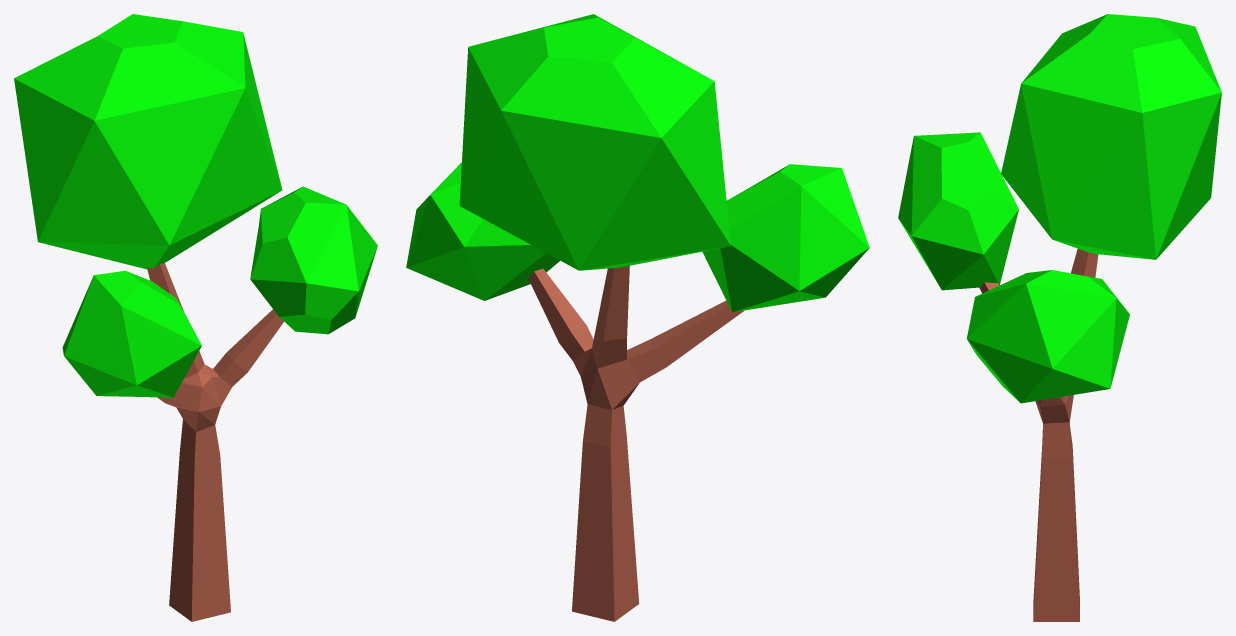
Rendered from tree_5c.fbx.
The picture shows the model from 3 angles, left to right: view 1: azimuth 30°, elevation 25°; view 2: azimuth 150°, elevation 25°; view 3: azimuth 270°, elevation 25°; orthographic projection. The views are drawn at different scales.
Parts seen in each view (by area): view 1: tree_5c; view 2: tree_5c; view 3: tree_5c.
Part boxes in pixels (bbox=[...]): tree_5c: bbox=[14, 14, 377, 621]; tree_5c: bbox=[406, 14, 869, 621]; tree_5c: bbox=[898, 14, 1221, 621].
Bounding box in the file's own units: 430 × 625 × 320.
